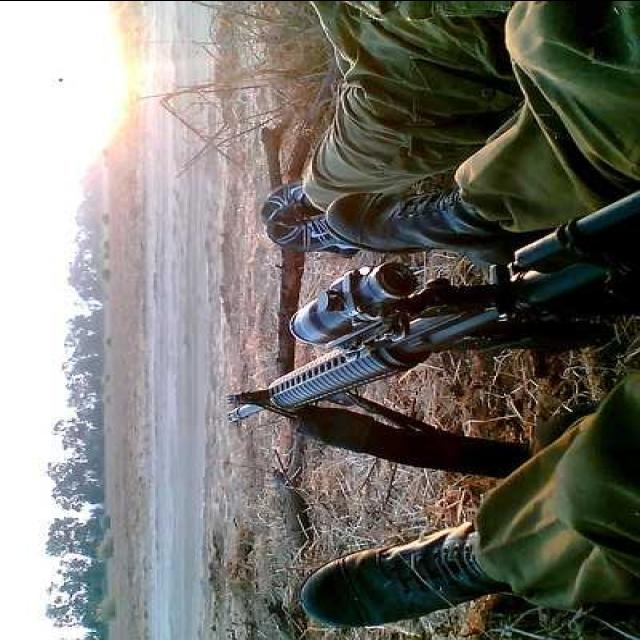heavyweapon: (214, 197, 640, 431)
